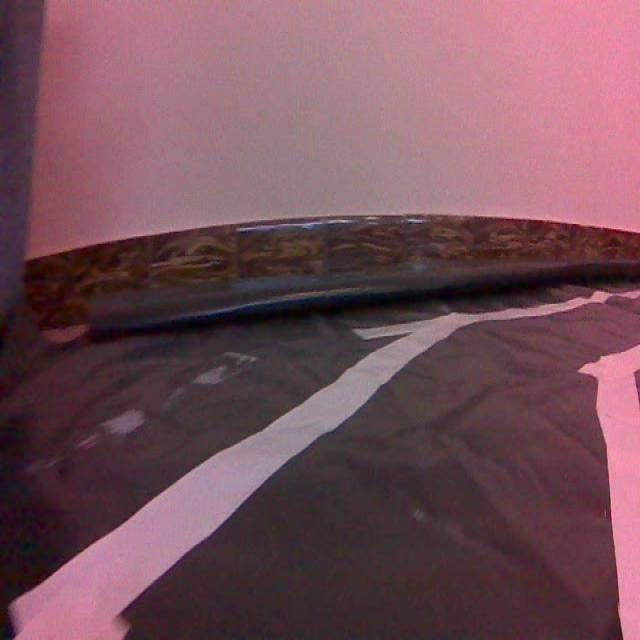LineaCarril: (9, 292, 609, 638), (580, 345, 640, 638)
